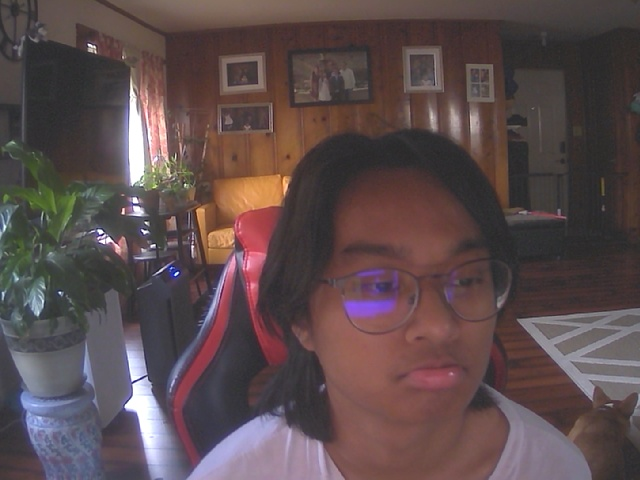sad: (283, 142, 518, 434)
